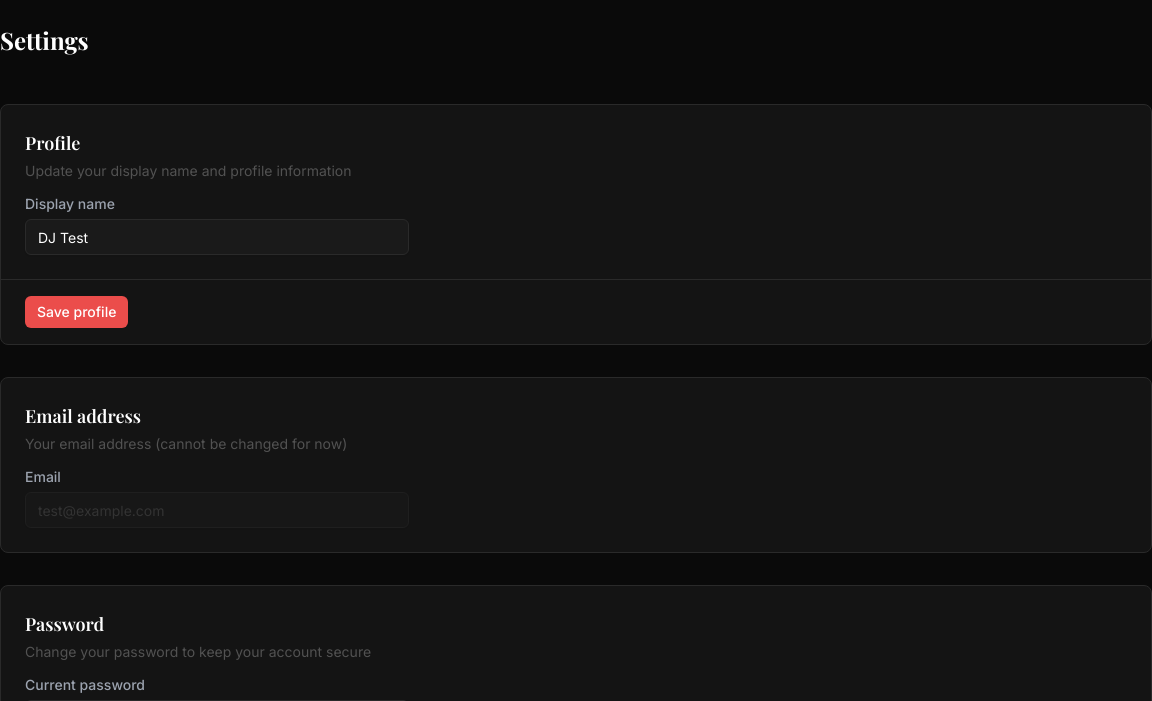
Test: SettingsPage › profile update › shows error message when profile update fails
Replace the text in the field labelled "Display name" with "New Name" at (217, 237), box [25, 219, 409, 255]
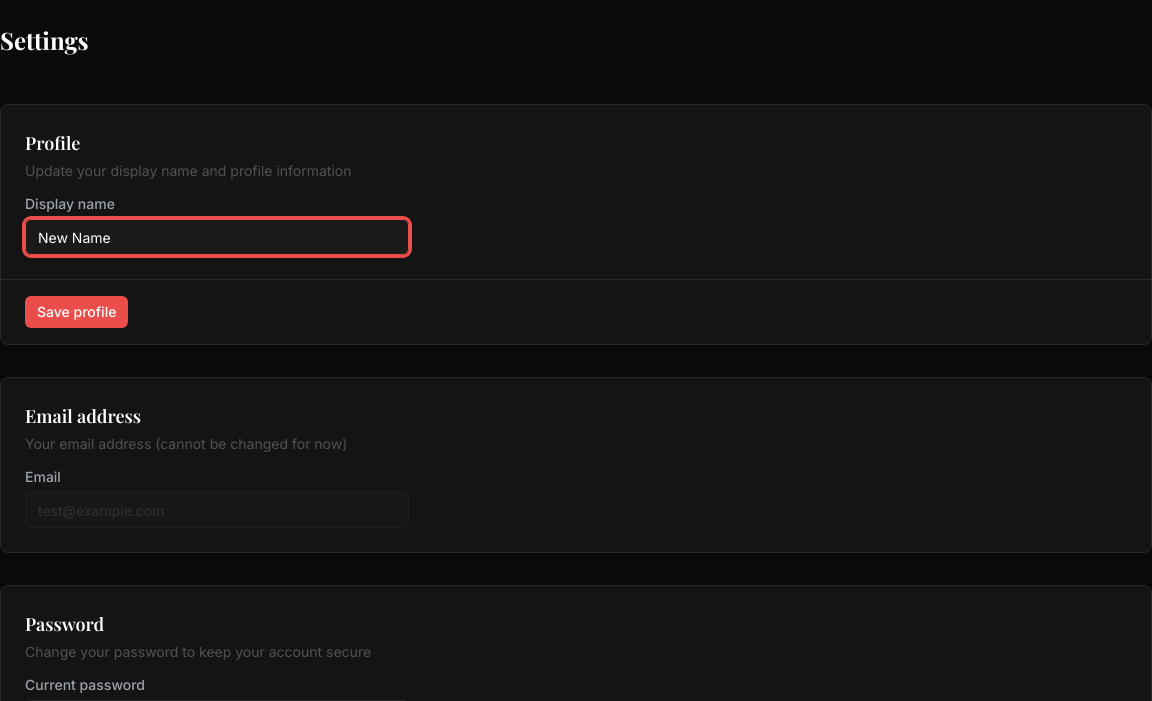
Click the button "Save profile" at (77, 312), box [25, 296, 128, 328]
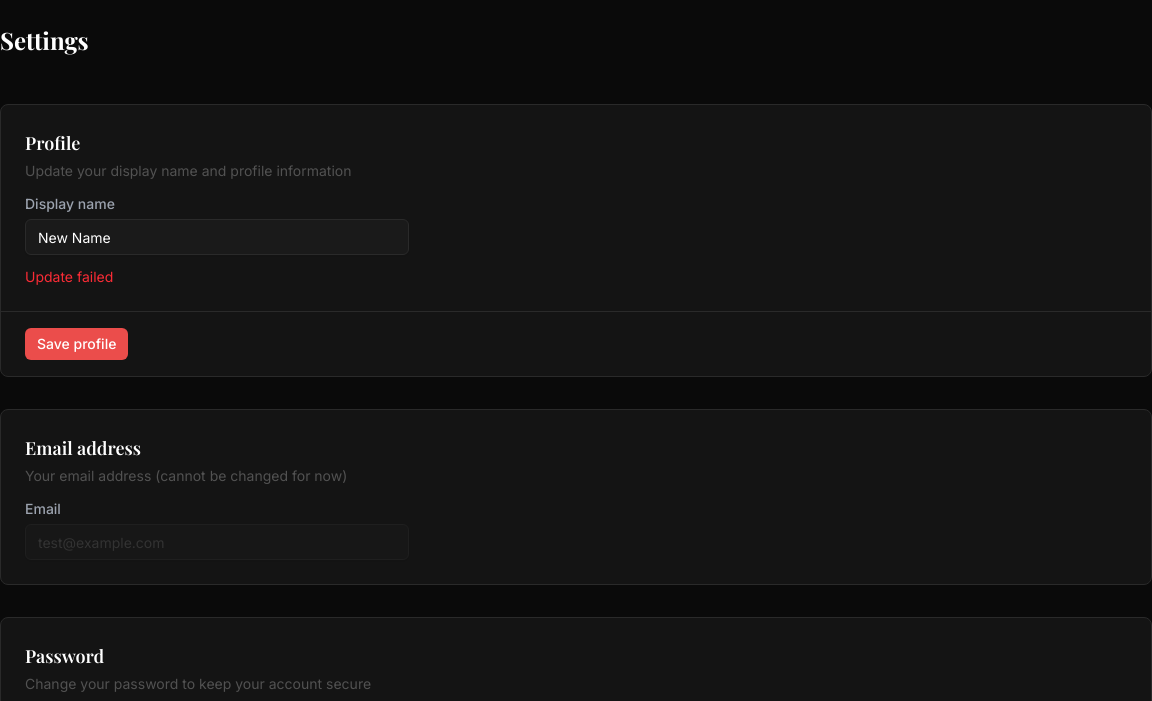
Now the text "Update failed" is shown, box [25, 268, 113, 285]
